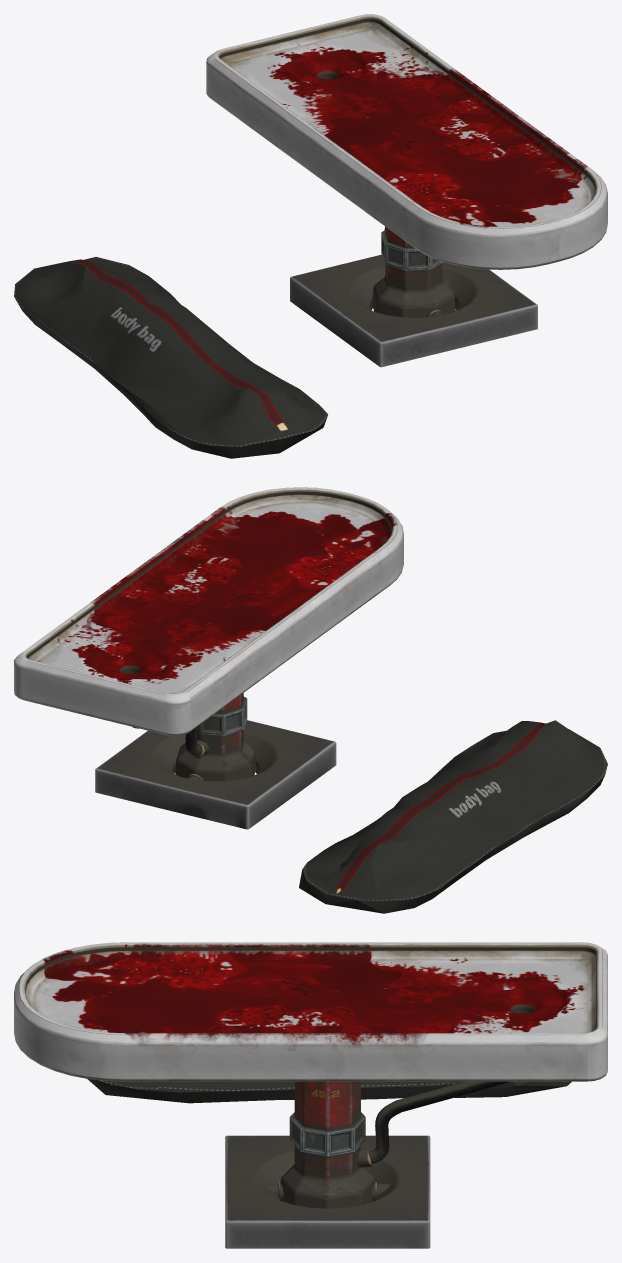
Rendered from camilla_con_bolsa.obj.
3 views of the same model, one above another, from view 1: azimuth 30°, elevation 25°; view 2: azimuth 150°, elevation 25°; view 3: azimuth 270°, elevation 25° (orthographic). The views are drawn at different scales.
Visible parts, largest first — view 1: Surgical_table, body_bag; view 2: Surgical_table, body_bag; view 3: Surgical_table, body_bag.
Part boxes in pixels (x1=…): Surgical_table: x1=206, y1=14, x2=607, y2=367; body_bag: x1=14, y1=257, x2=328, y2=458; Surgical_table: x1=14, y1=487, x2=403, y2=829; body_bag: x1=299, y1=720, x2=607, y2=913; Surgical_table: x1=14, y1=942, x2=607, y2=1248; body_bag: x1=87, y1=1079, x2=571, y2=1103.
Bounding box in the file's own units: 237 × 108 × 267.
Materials: 2 (2 with a texture image).
